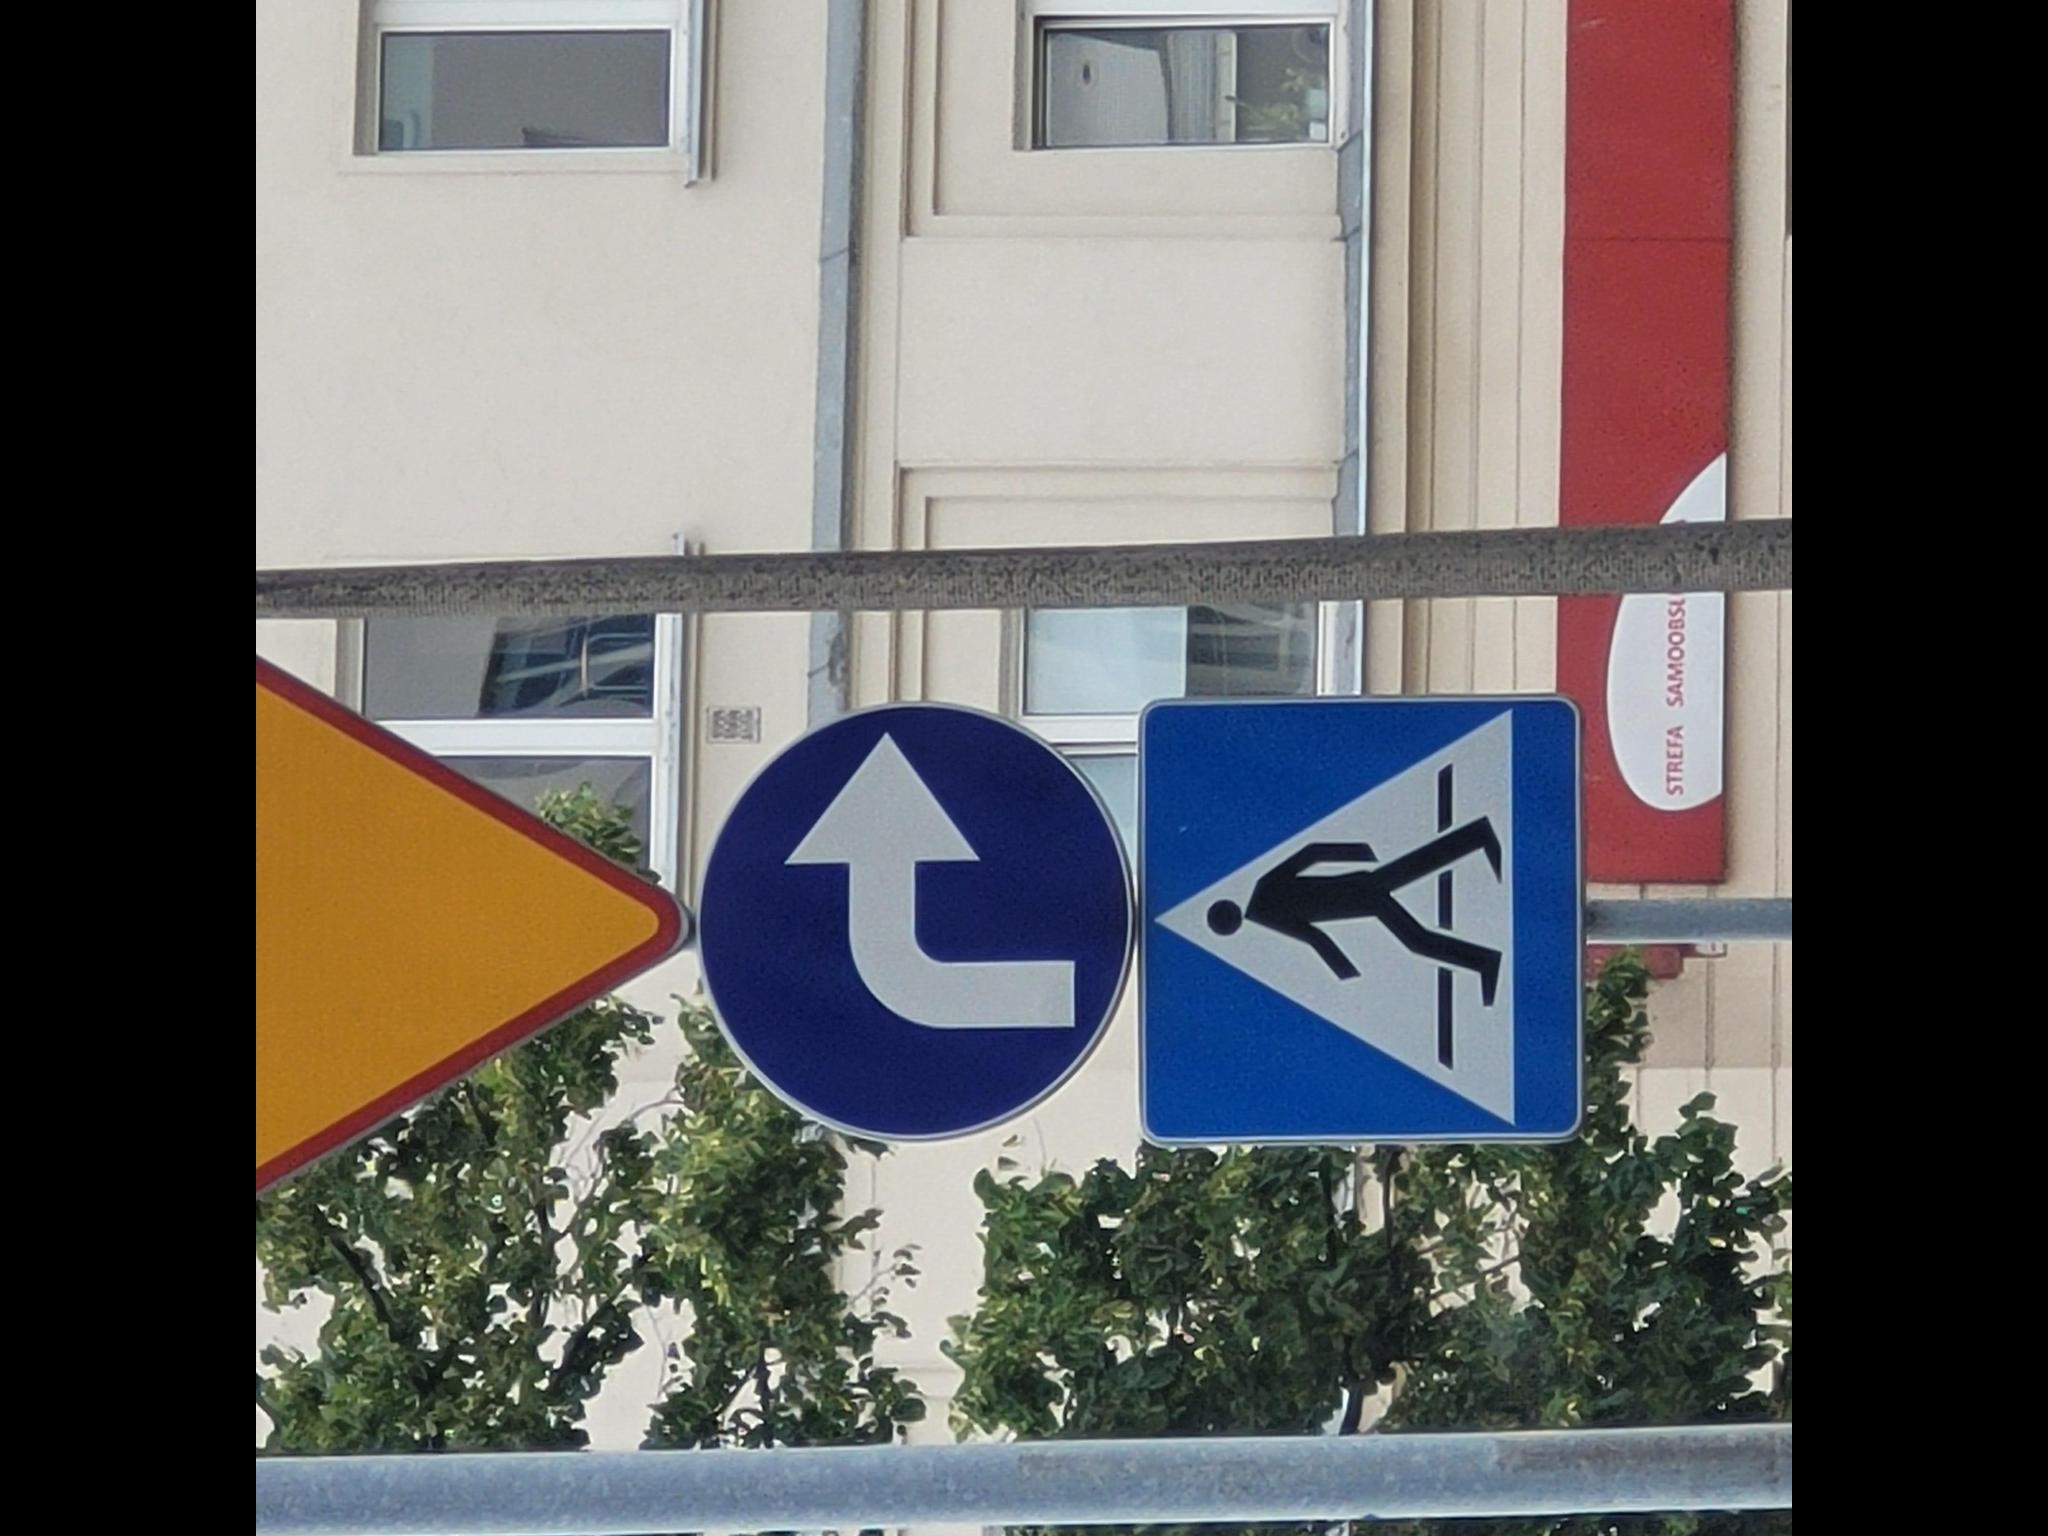information: (1142, 694, 1579, 1137)
mandatory: (695, 699, 1135, 1144)
warning: (256, 650, 697, 1194)
